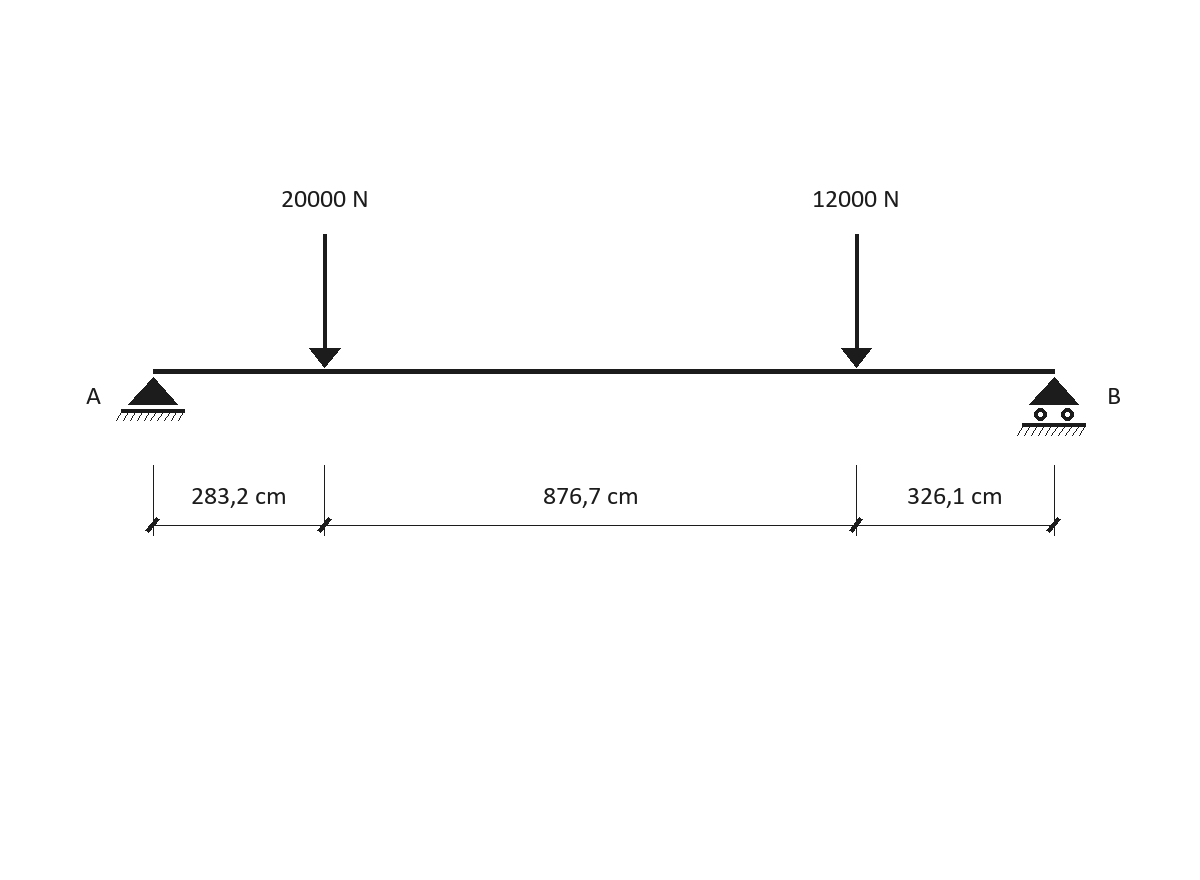pin_support: (116, 377, 185, 421)
point_load: (309, 234, 341, 368), (841, 234, 872, 368)
roller_support: (1017, 377, 1086, 436)
